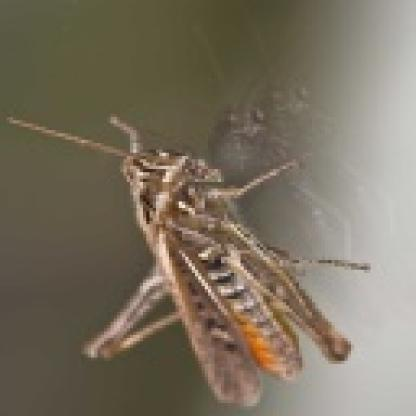grasshopper: (13, 101, 380, 409)
